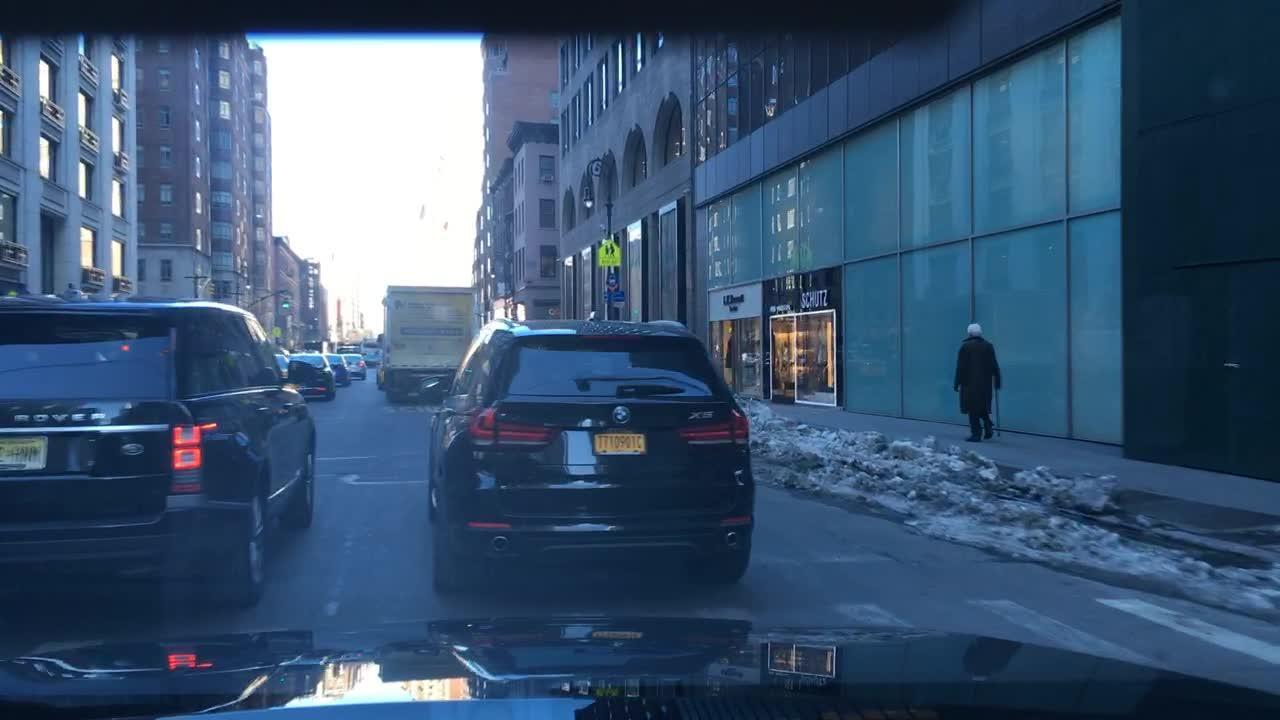bmw: (595, 395, 646, 441)
